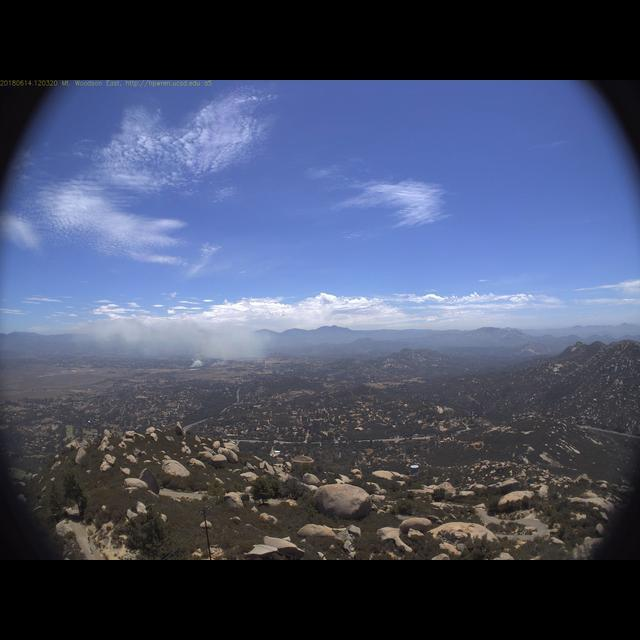Smoke: (75, 309, 263, 370)
